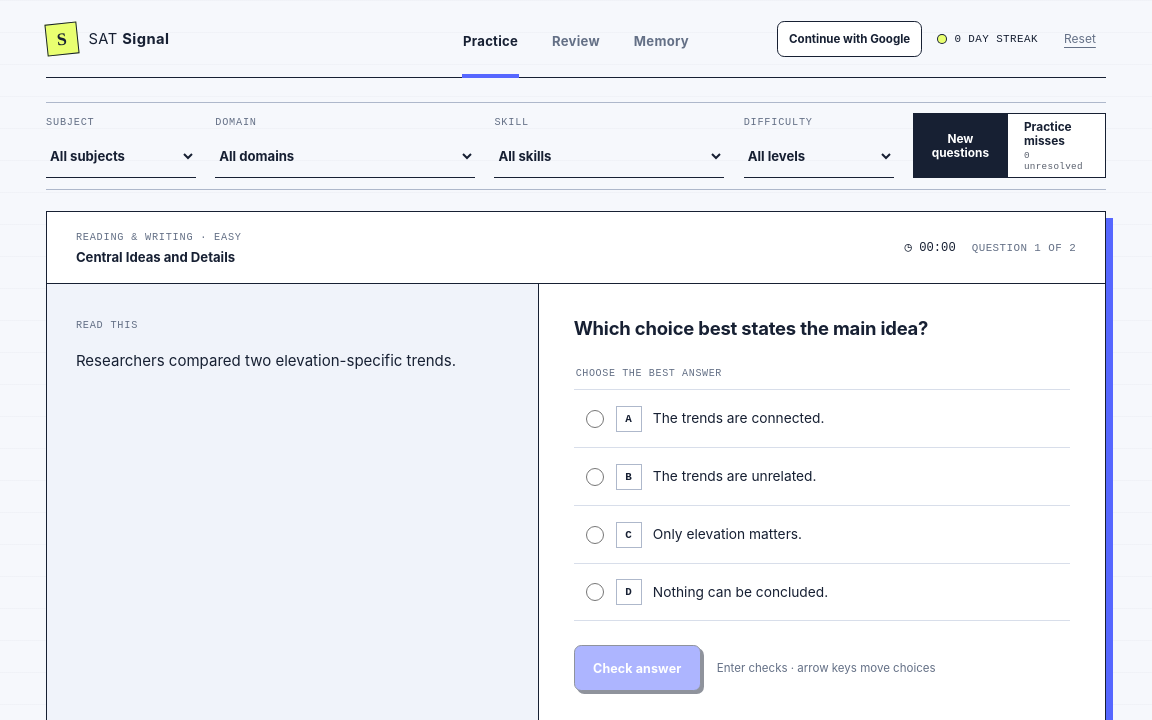
SAT practice app › clears account history in the cloud before clearing the browser copy
Expected: the heading "Which choice best states the main idea?" is shown, top-left (574, 317), bottom-right (928, 339)
Click the button "Continue with Google" at (850, 38), box top-left (777, 20), bottom-right (922, 56)
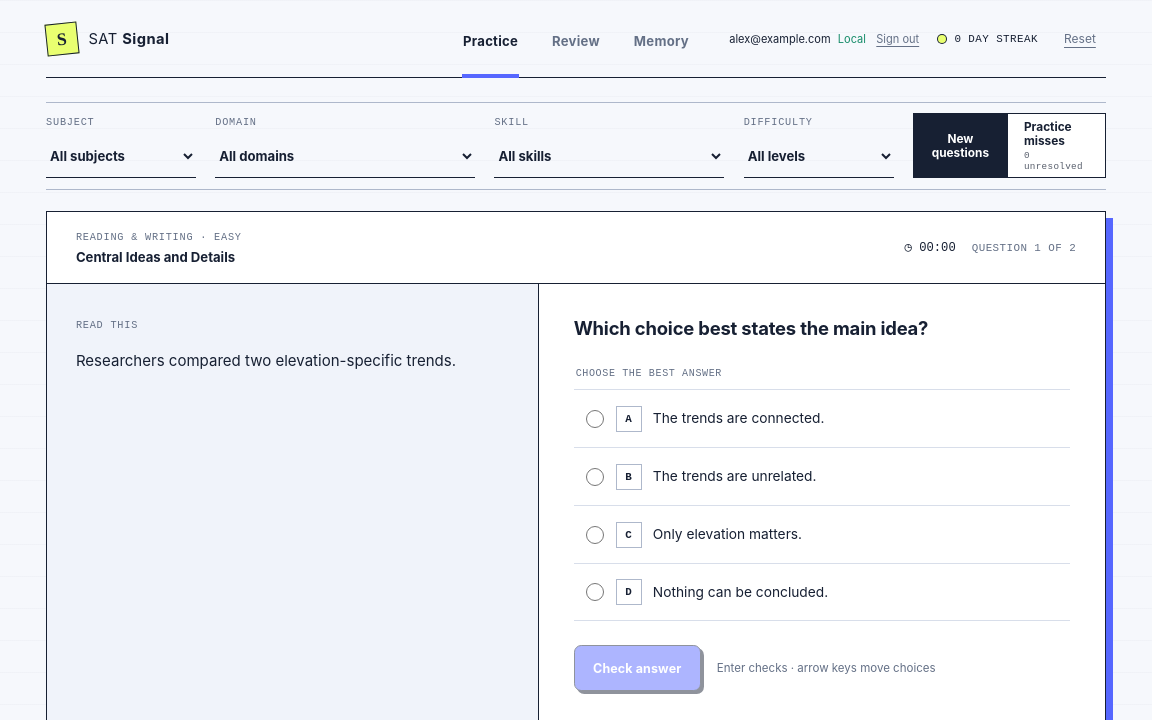
Now the text "alex@example.com" is shown, box top-left (729, 32), bottom-right (831, 46)
Click the radio button labelled "A The trends are connected." at (595, 419), box top-left (586, 410), bottom-right (604, 428)
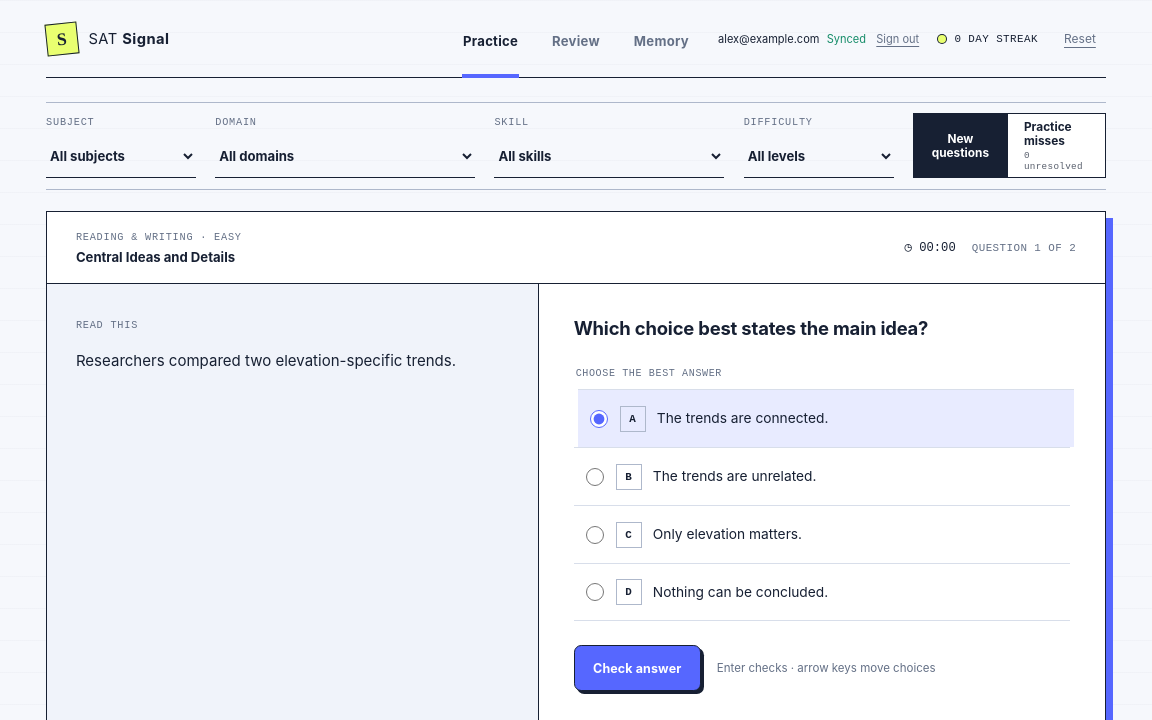
Click the button "Check answer" at (637, 668), box top-left (574, 645), bottom-right (701, 691)
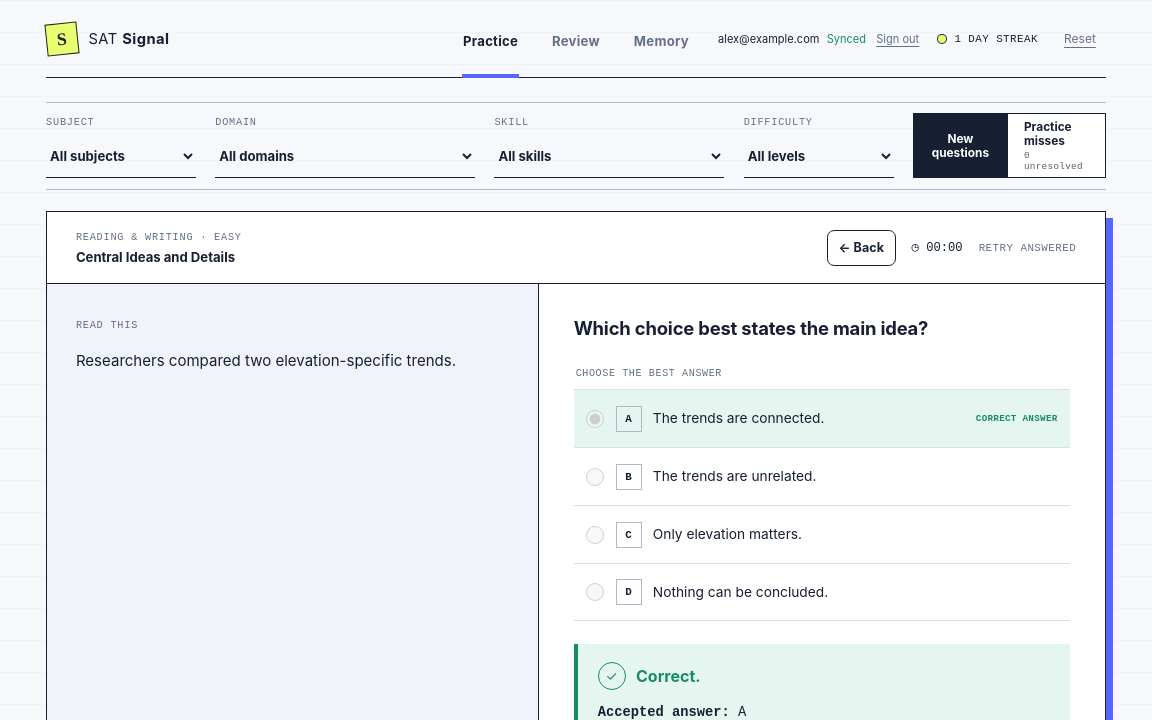
Click the button "Reset" at (1080, 38), box top-left (1054, 16), bottom-right (1106, 60)
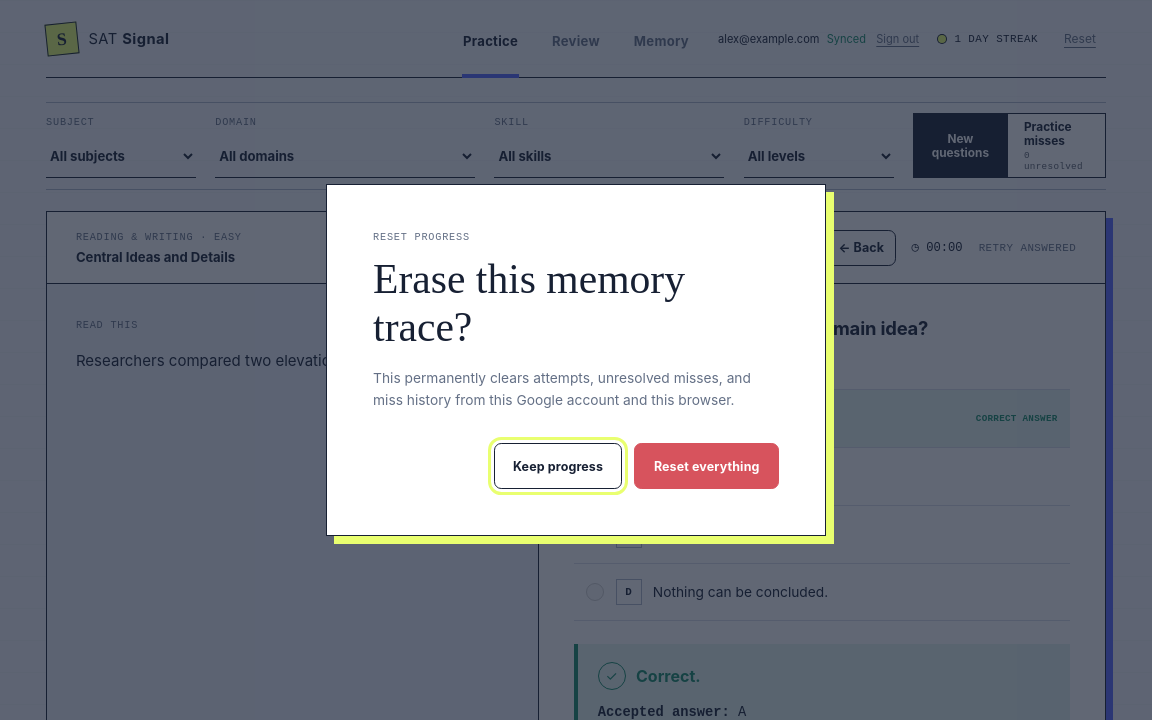
Click the button "Reset everything" at (707, 466), box top-left (634, 443), bottom-right (779, 489)
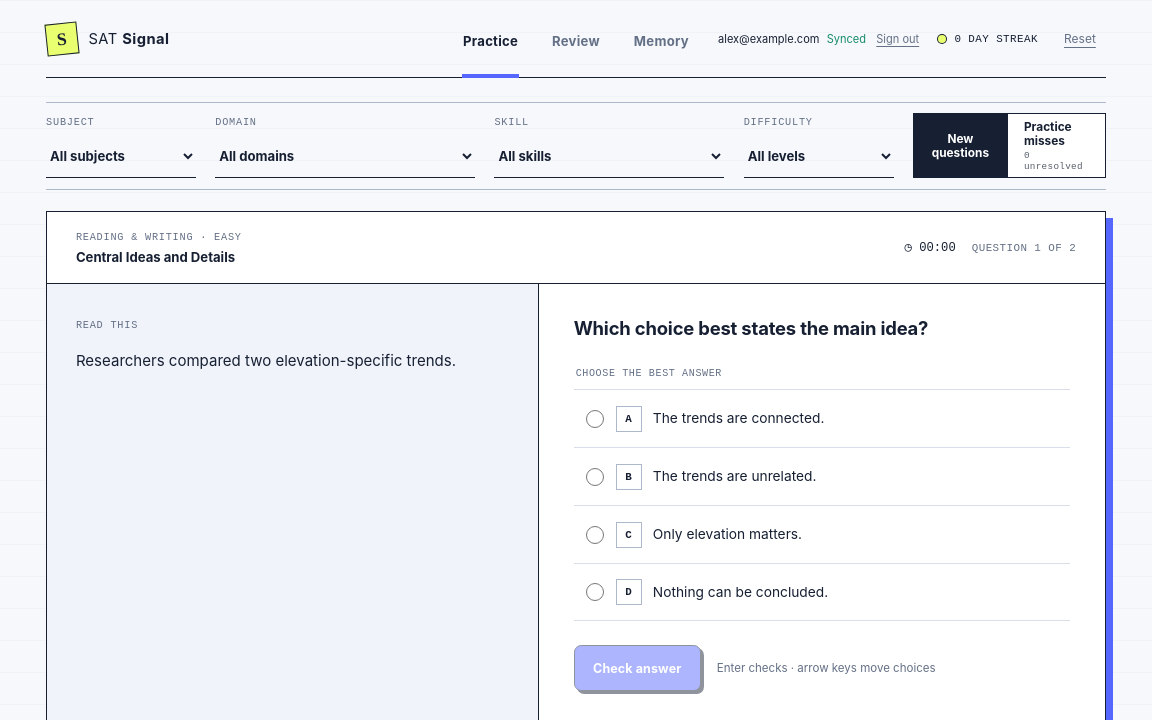
Now the dialog is gone
